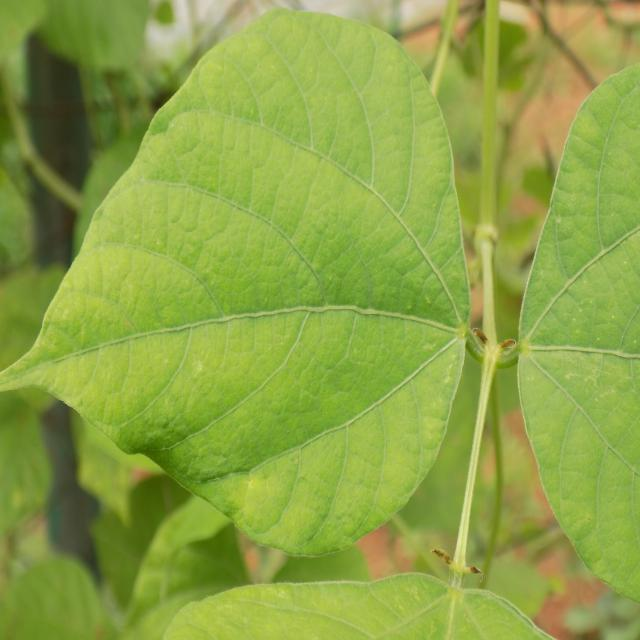Dolicos bean_cercospora leaf spot: (0, 12, 470, 557)
